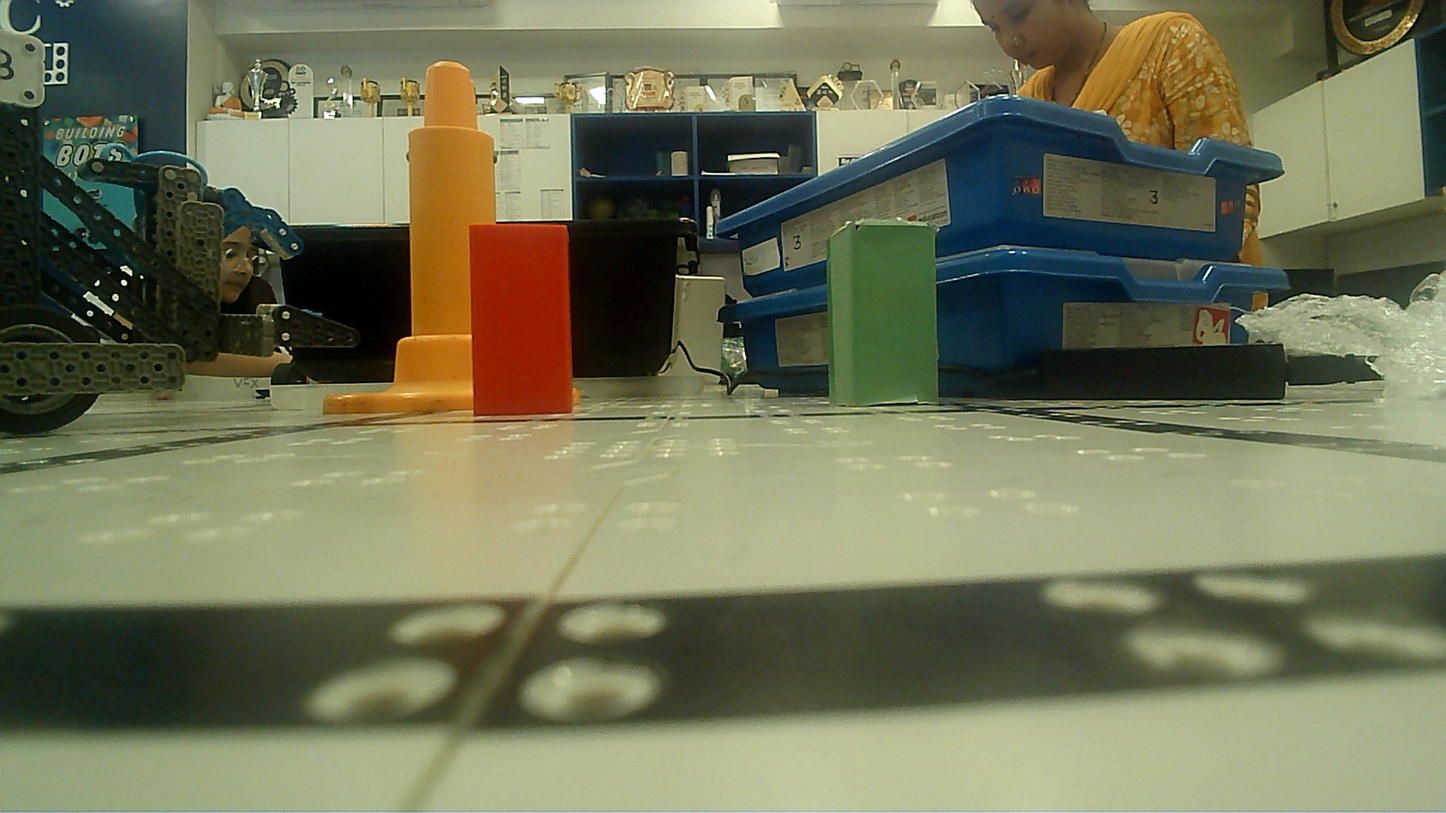red: (455, 202, 583, 437)
